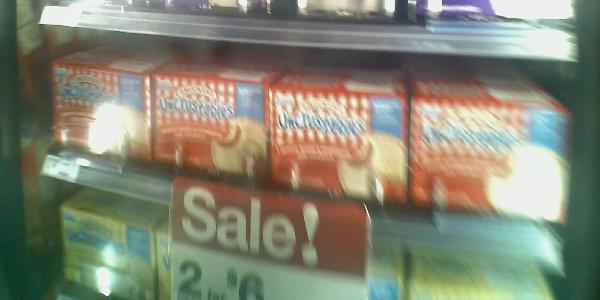icecream: (415, 101, 568, 223), (270, 86, 410, 217), (152, 75, 269, 187), (47, 61, 152, 164)
